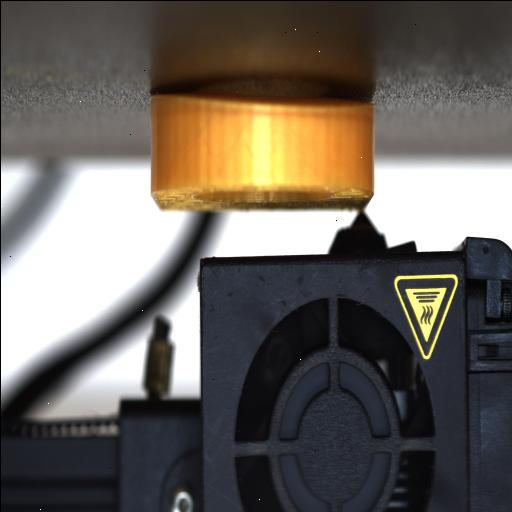warp: (154, 90, 362, 116)
